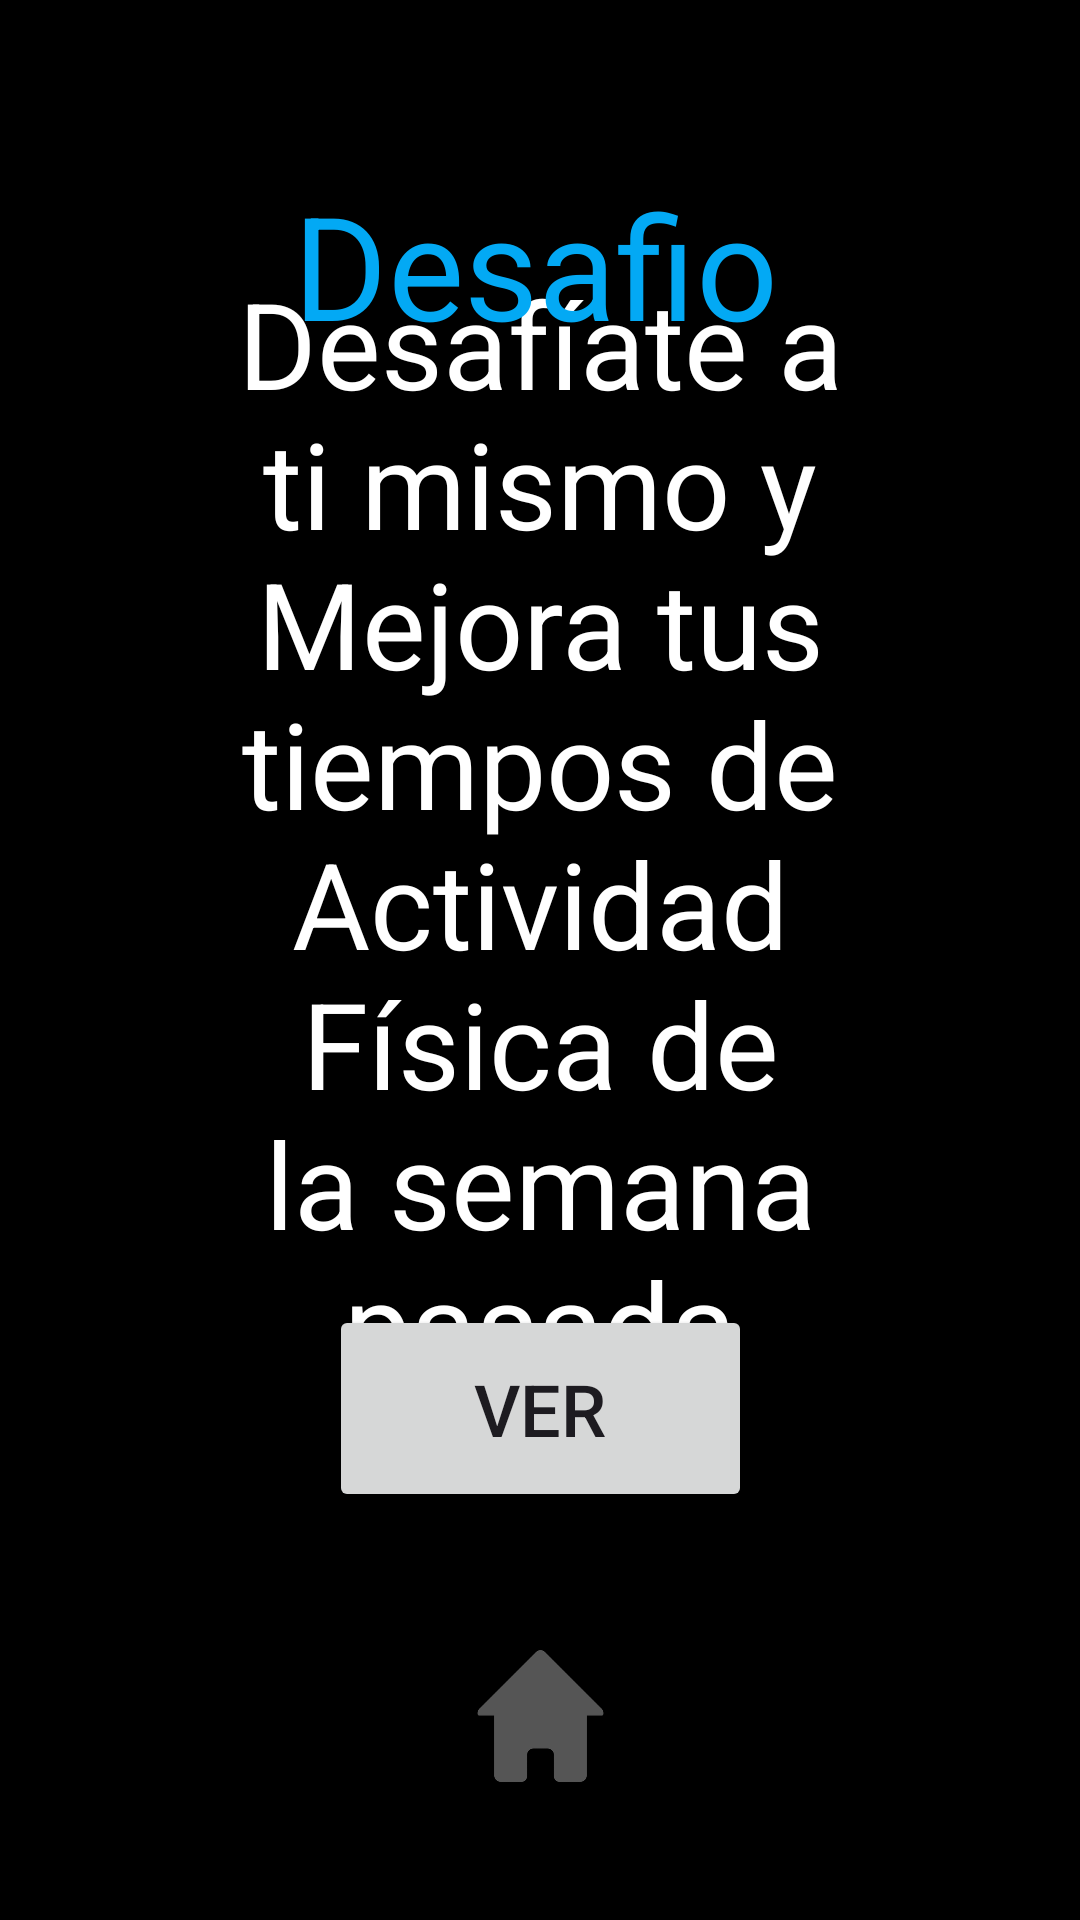

Where icons sit on this 1080*1920 app screen, as (x1, y1, x2, y2):
casa: (477, 1650, 604, 1782)
